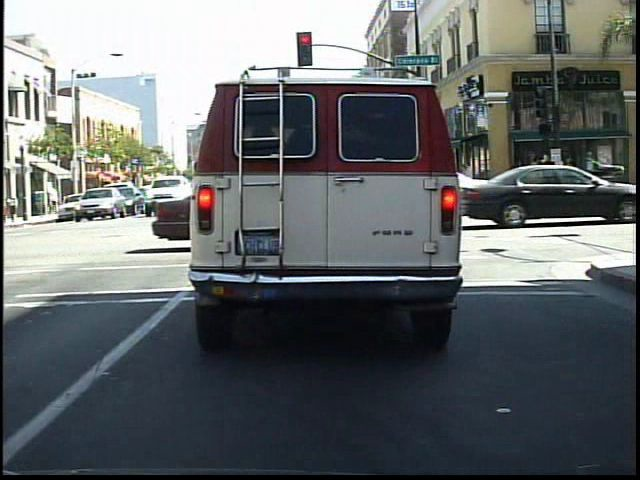person: (538, 154, 559, 205), (511, 159, 531, 205)
